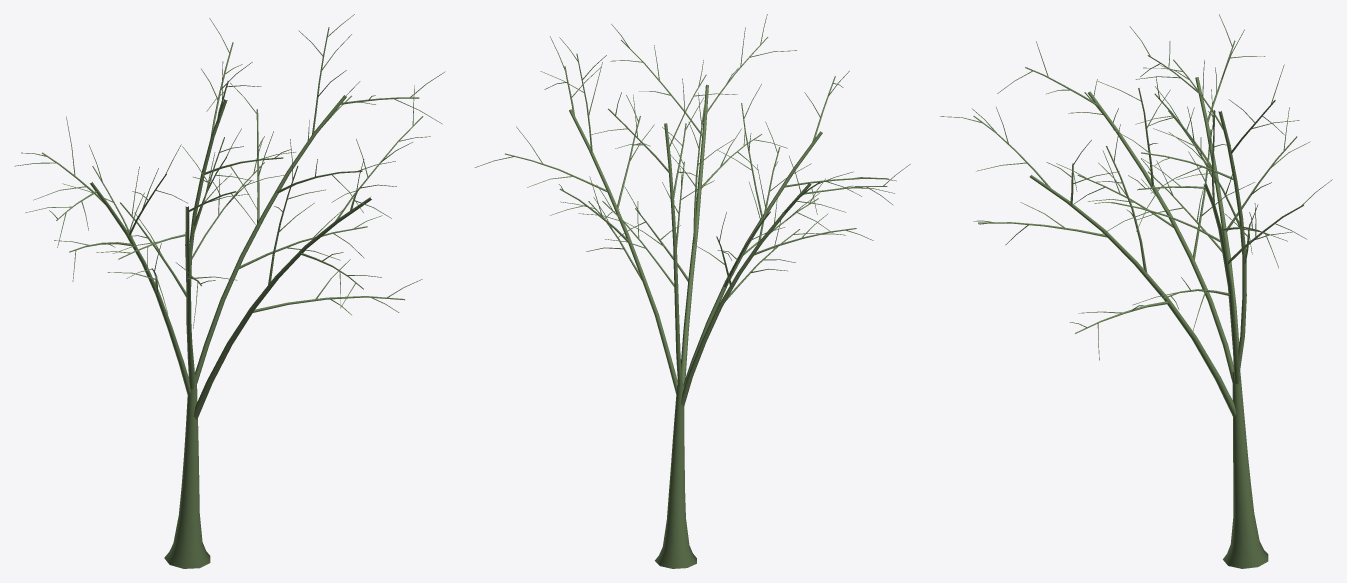
File: tree_s2_lod0.glb
3 renders of one model, left to right at view 1: azimuth 30°, elevation 25°; view 2: azimuth 150°, elevation 25°; view 3: azimuth 270°, elevation 25°, orthographic. The views are drawn at different scales.
Size of the model in its own units: 9.67 by 11.92 by 8.16.
